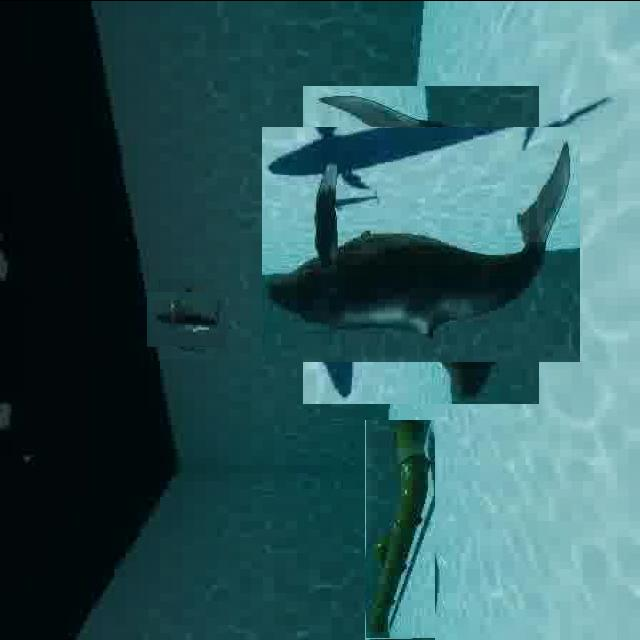Pipe: (365, 418, 435, 638)
Whale: (282, 105, 560, 382), (152, 284, 220, 352)
